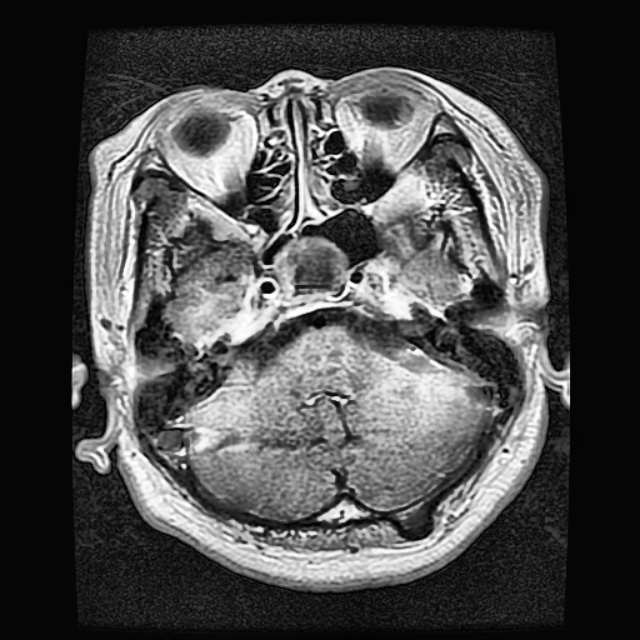Pituitary: (275, 238, 349, 297)
